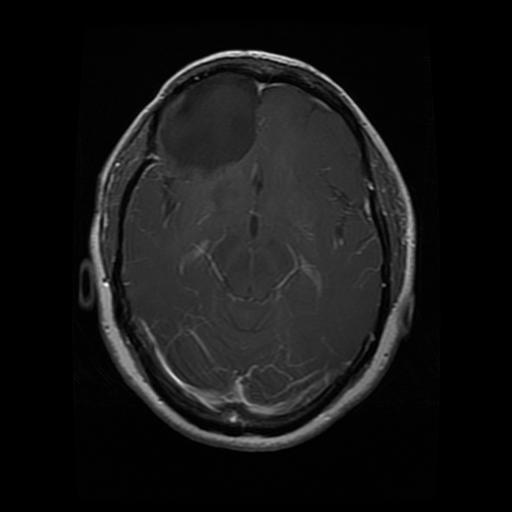Gliomia_tumour: (155, 72, 265, 181)
